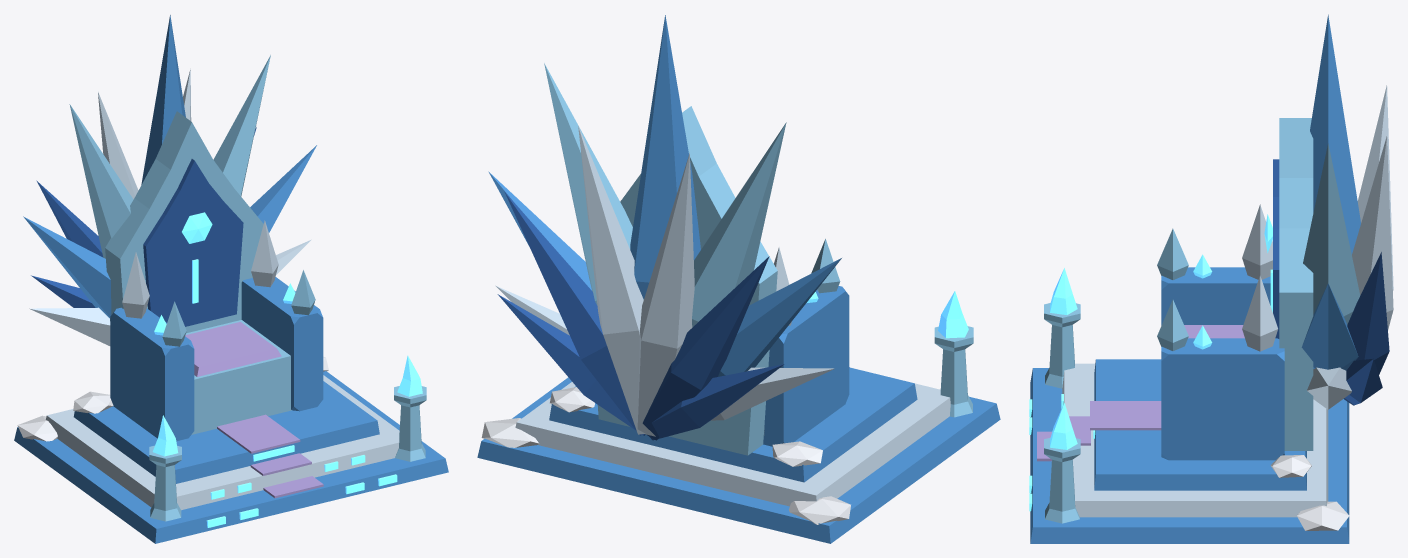
The model's file is Tundra_4_IceThrone.fbx.
3 renders of one model, left to right at view 1: azimuth 30°, elevation 25°; view 2: azimuth 150°, elevation 25°; view 3: azimuth 270°, elevation 25°, orthographic. The views are drawn at different scales.
Parts seen in each view (by area): view 1: Tundra_4_IceThrone__Tundra_IceDeep, Tundra_4_IceThrone__Tundra_Ice, Tundra_4_IceThrone__Tundra_Frost, Tundra_4_IceThrone__Tundra_IceDark, Tundra_4_IceThrone__Tundra_PalePurple, Tundra_4_IceThrone__Neon_Tundra_BlueFlame, Tundra_4_IceThrone__Tundra_Snow; view 2: Tundra_4_IceThrone__Tundra_IceDeep, Tundra_4_IceThrone__Tundra_Frost, Tundra_4_IceThrone__Tundra_Ice, Tundra_4_IceThrone__Tundra_IceDark, Tundra_4_IceThrone__Tundra_Snow, Tundra_4_IceThrone__Neon_Tundra_BlueFlame; view 3: Tundra_4_IceThrone__Tundra_IceDeep, Tundra_4_IceThrone__Tundra_Ice, Tundra_4_IceThrone__Tundra_Frost, Tundra_4_IceThrone__Tundra_IceDark, Tundra_4_IceThrone__Tundra_PalePurple, Tundra_4_IceThrone__Neon_Tundra_BlueFlame, Tundra_4_IceThrone__Tundra_Snow.
Boxes of the visible parts, bbox=[...] form: Tundra_4_IceThrone__Tundra_IceDeep: bbox=[14, 15, 448, 543]; Tundra_4_IceThrone__Tundra_Ice: bbox=[69, 55, 426, 521]; Tundra_4_IceThrone__Tundra_Frost: bbox=[29, 69, 399, 510]; Tundra_4_IceThrone__Tundra_IceDark: bbox=[31, 127, 256, 326]; Tundra_4_IceThrone__Tundra_PalePurple: bbox=[185, 322, 323, 498]; Tundra_4_IceThrone__Neon_Tundra_BlueFlame: bbox=[152, 212, 422, 527]; Tundra_4_IceThrone__Tundra_Snow: bbox=[17, 357, 328, 441]; Tundra_4_IceThrone__Tundra_IceDeep: bbox=[477, 15, 1000, 543]; Tundra_4_IceThrone__Tundra_Frost: bbox=[495, 126, 950, 506]; Tundra_4_IceThrone__Tundra_Ice: bbox=[544, 63, 973, 455]; Tundra_4_IceThrone__Tundra_IceDark: bbox=[497, 191, 784, 440]; Tundra_4_IceThrone__Tundra_Snow: bbox=[481, 387, 850, 524]; Tundra_4_IceThrone__Neon_Tundra_BlueFlame: bbox=[806, 291, 968, 338]; Tundra_4_IceThrone__Tundra_IceDeep: bbox=[1030, 14, 1360, 543]; Tundra_4_IceThrone__Tundra_Ice: bbox=[1044, 118, 1360, 523]; Tundra_4_IceThrone__Tundra_Frost: bbox=[1062, 85, 1393, 517]; Tundra_4_IceThrone__Tundra_IceDark: bbox=[1273, 159, 1389, 405]; Tundra_4_IceThrone__Tundra_PalePurple: bbox=[1037, 325, 1244, 461]; Tundra_4_IceThrone__Neon_Tundra_BlueFlame: bbox=[1029, 214, 1272, 511]; Tundra_4_IceThrone__Tundra_Snow: bbox=[1270, 455, 1349, 530].
Bounding box in the file's own units: 37.11 × 46.6 × 34.25.
